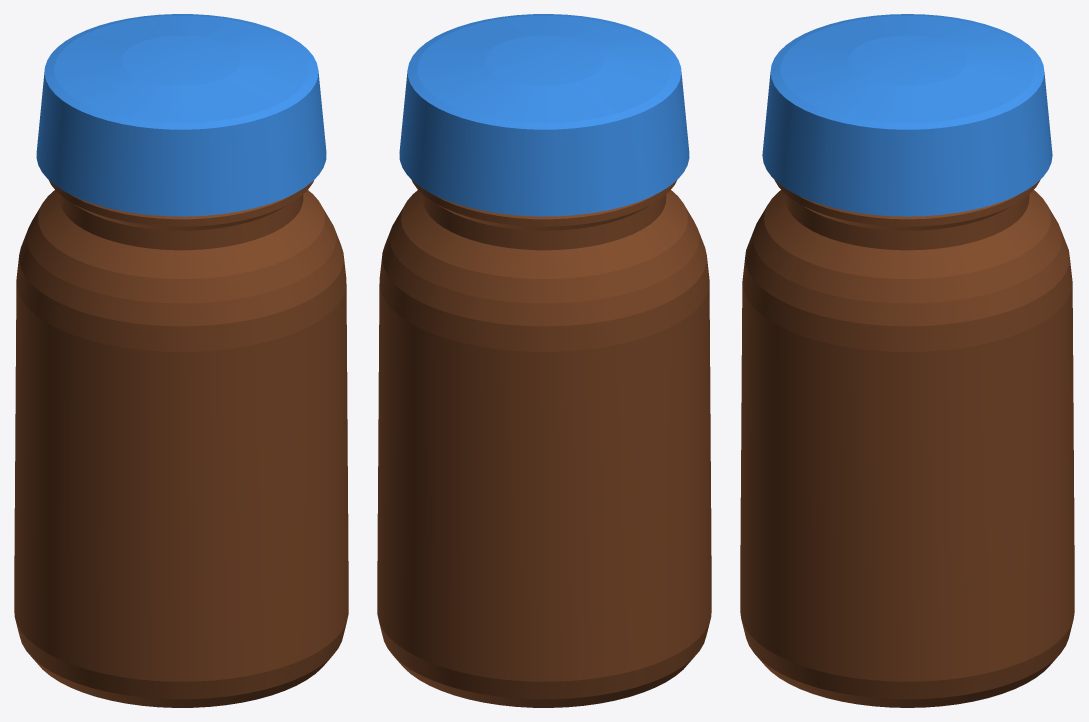
3 renders of one model, left to right at view 1: azimuth 30°, elevation 25°; view 2: azimuth 150°, elevation 25°; view 3: azimuth 270°, elevation 25°, orthographic.
Visible parts, largest first — view 1: brown_bottle, blue_lid, collar; view 2: brown_bottle, blue_lid, collar; view 3: brown_bottle, blue_lid, collar.
Boxes of the visible parts, left/top/right/bottom form: brown_bottle: left=14, top=190, right=348, bottom=707; blue_lid: left=36, top=14, right=326, bottom=216; collar: left=49, top=180, right=313, bottom=245; brown_bottle: left=377, top=190, right=711, bottom=707; blue_lid: left=399, top=14, right=689, bottom=216; collar: left=412, top=180, right=676, bottom=245; brown_bottle: left=740, top=190, right=1074, bottom=707; blue_lid: left=762, top=14, right=1052, bottom=216; collar: left=774, top=180, right=1040, bottom=244.
Bounding box in the file's own units: 0.0618 × 0.1204 × 0.0618.
